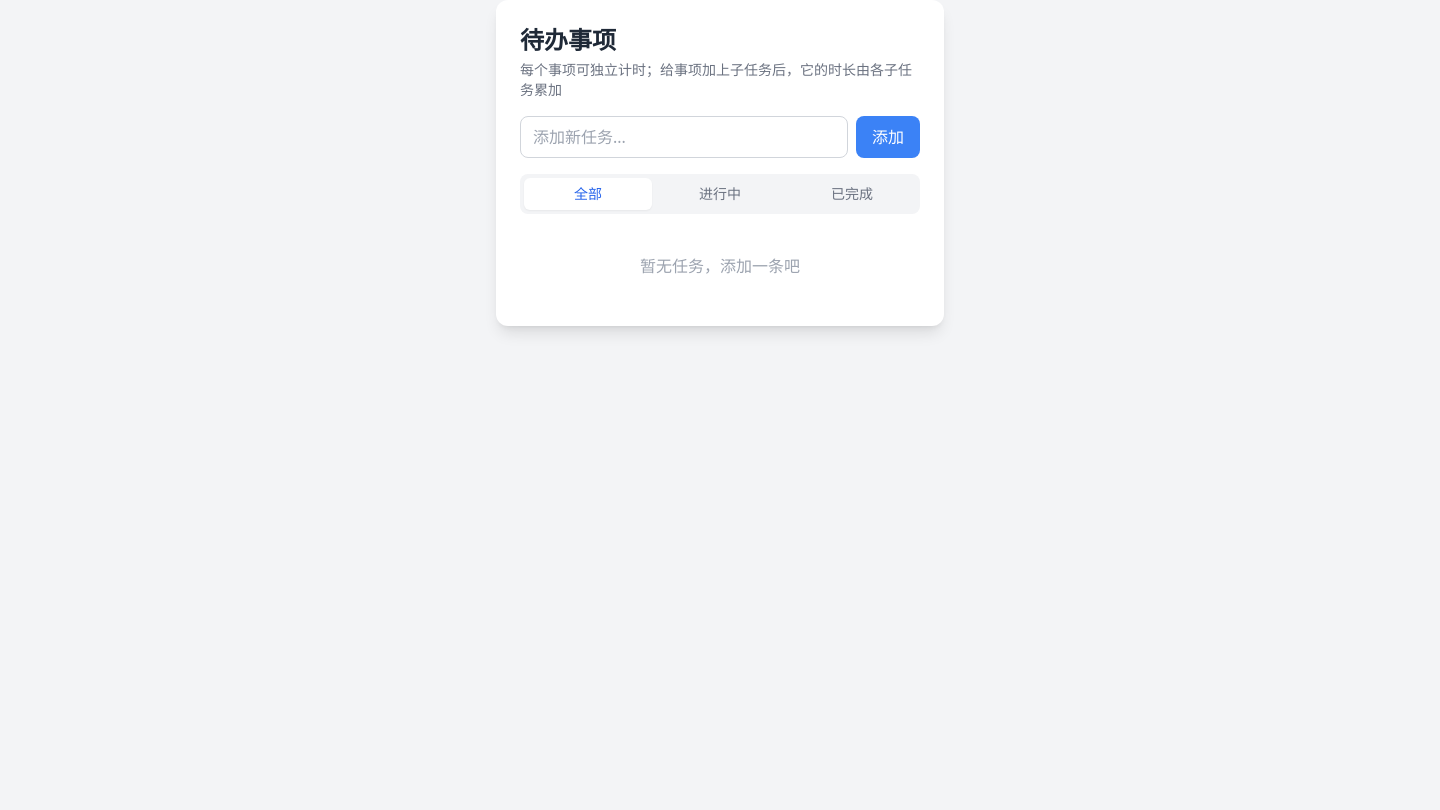
确认框点取消则不删除
Type "任务" into the field with placeholder "添加新任务..." at [684, 137], box [520,116,848,158]
Then press Enter
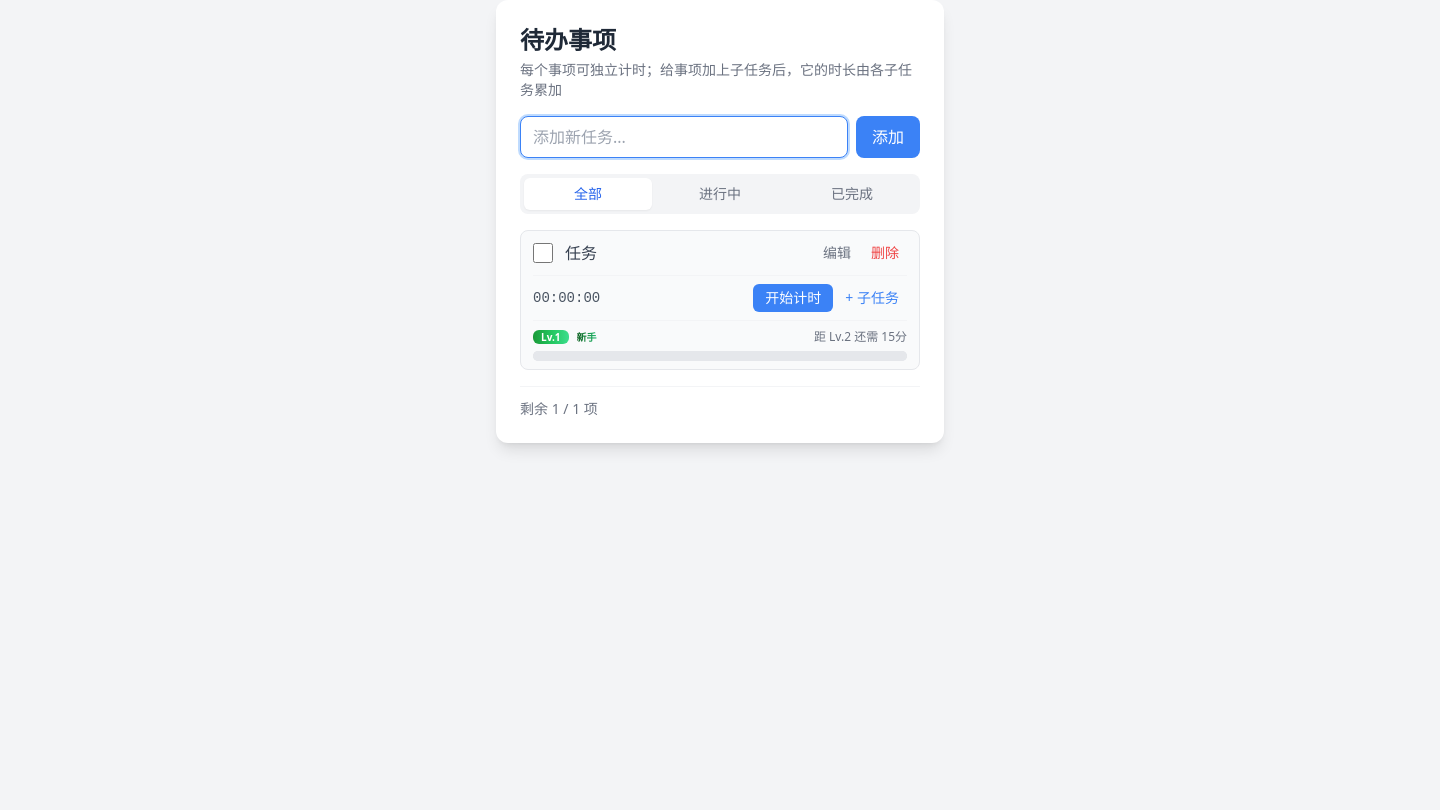
Check: the text "任务" is shown, box [565,242,597,264]
Click the button with aria-label "删除任务" at [885, 253], box [863,239,907,267]
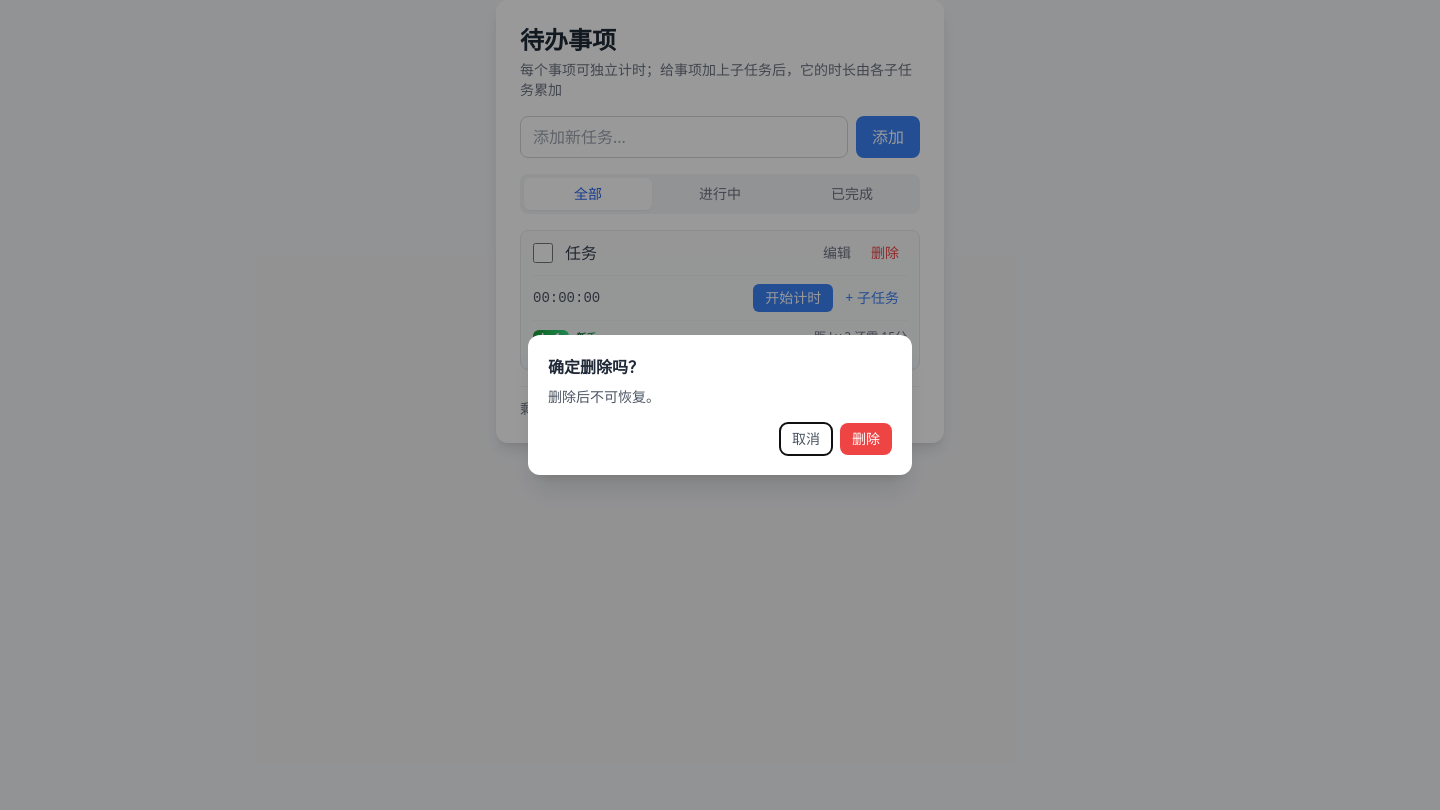
Click the button "取消" at [806, 439], box [780,423,832,455]
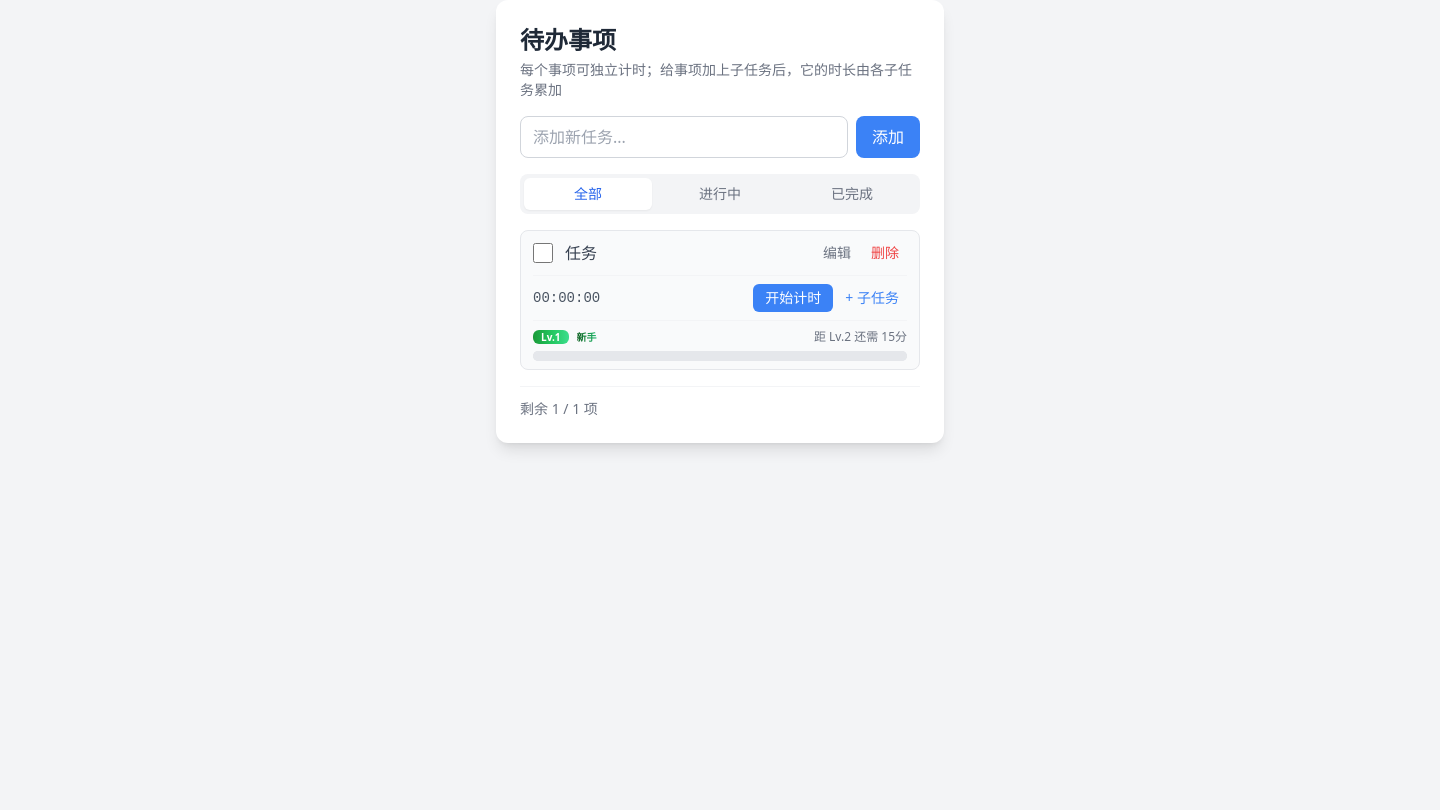
Check: the text "任务" is shown, box [565,242,597,264]
Check: the dialog is gone
